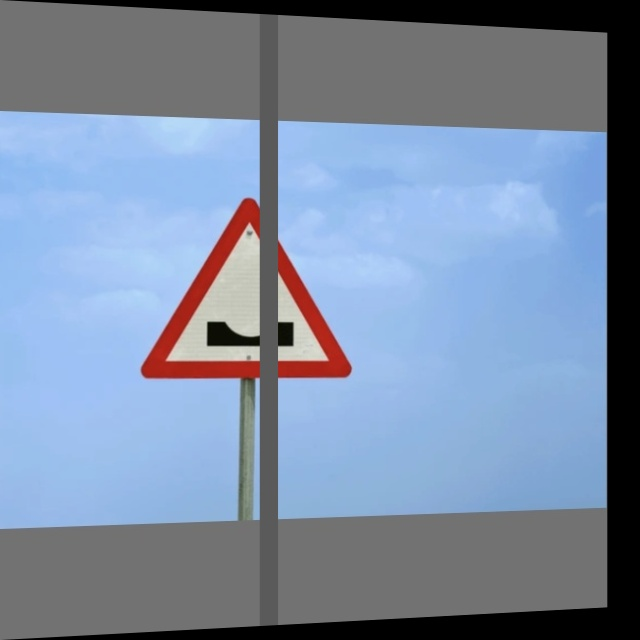Dangerous_Dip: (141, 191, 352, 381)
